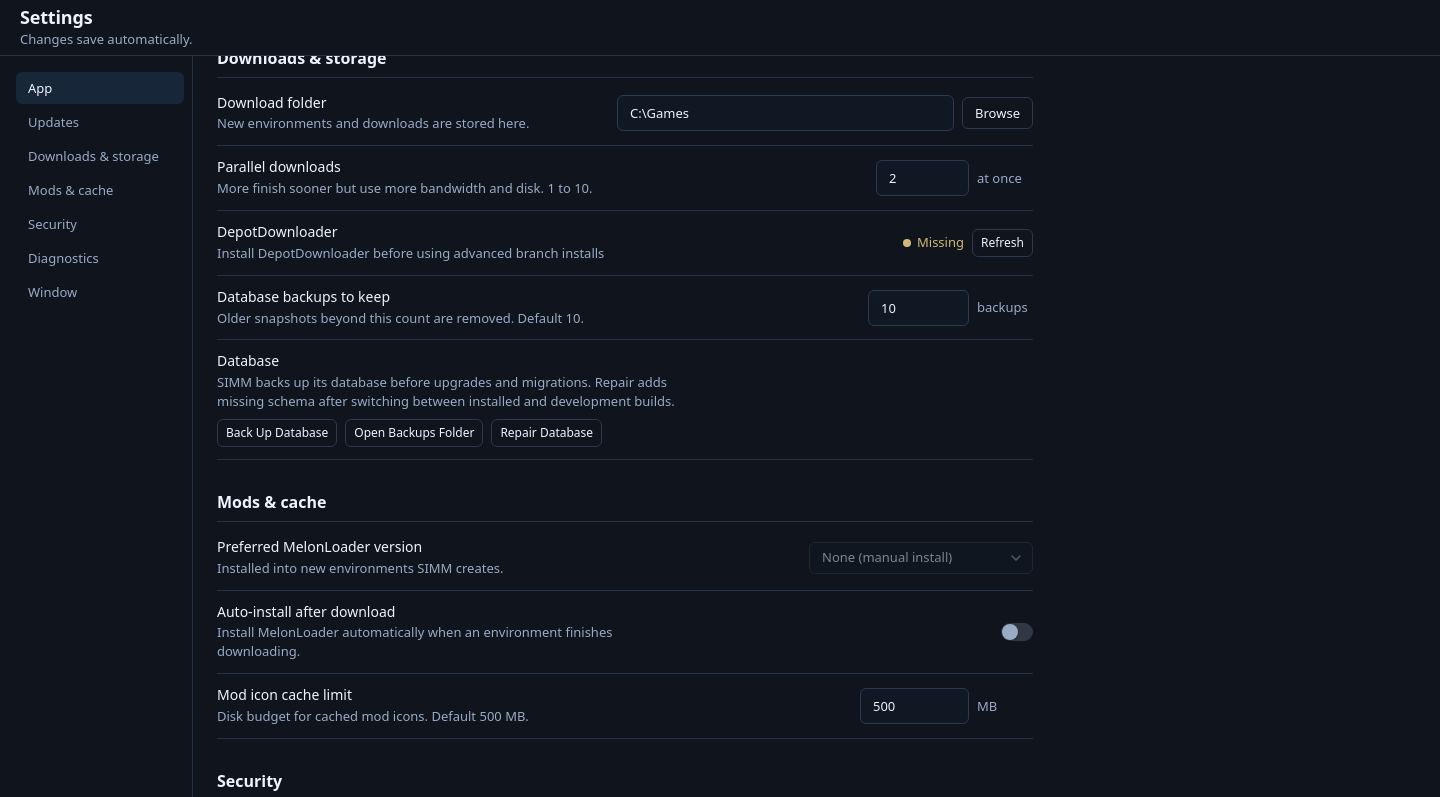
Test: Settings › creates a manual database backup from settings
The width and height of the screenshot is (1440, 797).
(page scrolled)
Click the button "Back Up Database" at (277, 433), box [217, 419, 337, 447]
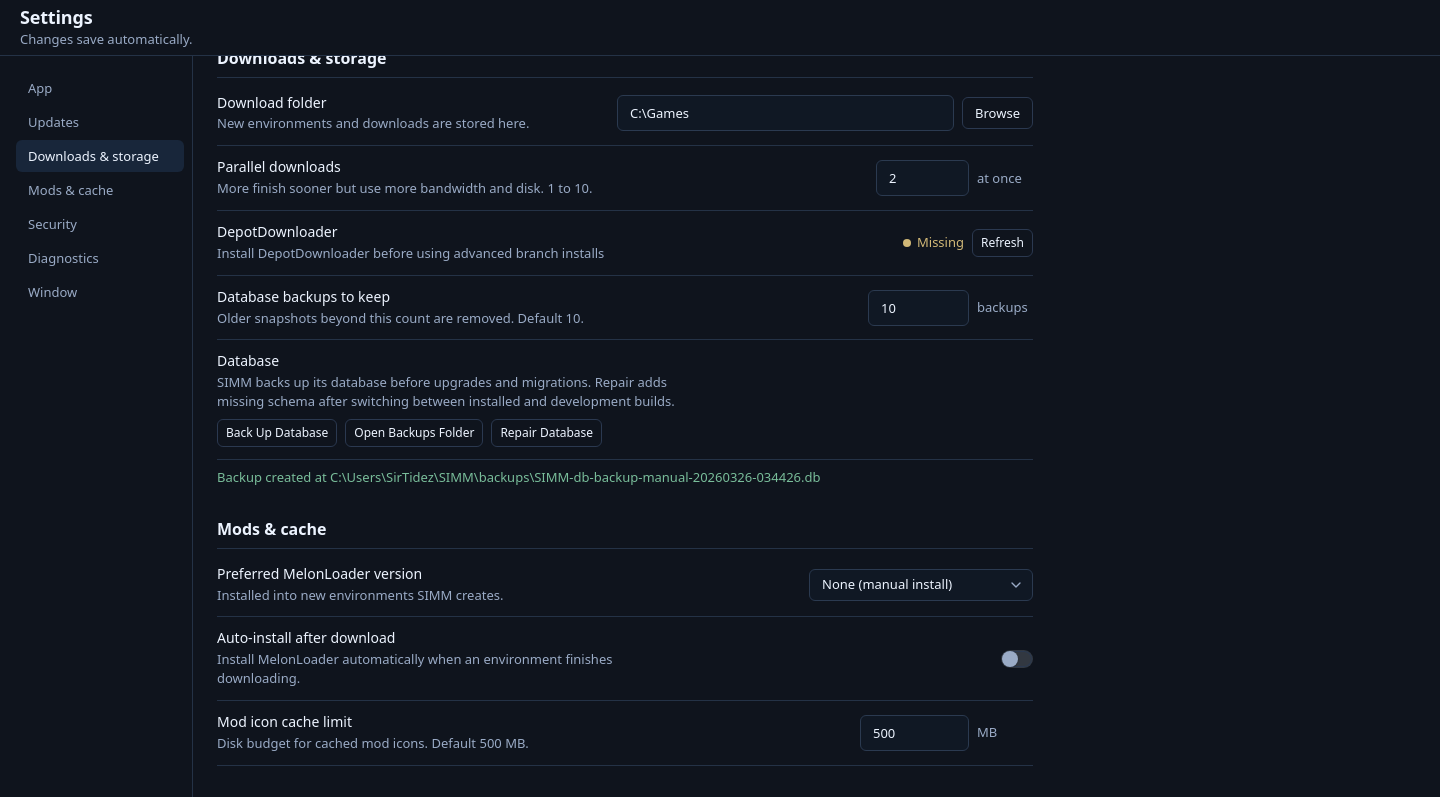
Expected: the text "Backup created at" is shown, [217, 468, 820, 486]
